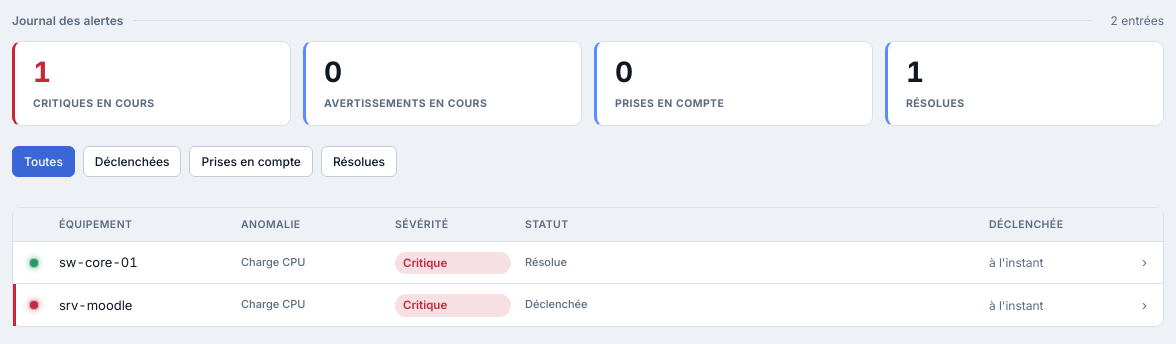
Test: AlertesPage › filtre par statut
Click the button "Résolues" at (359, 162), box [321,146,397,177]
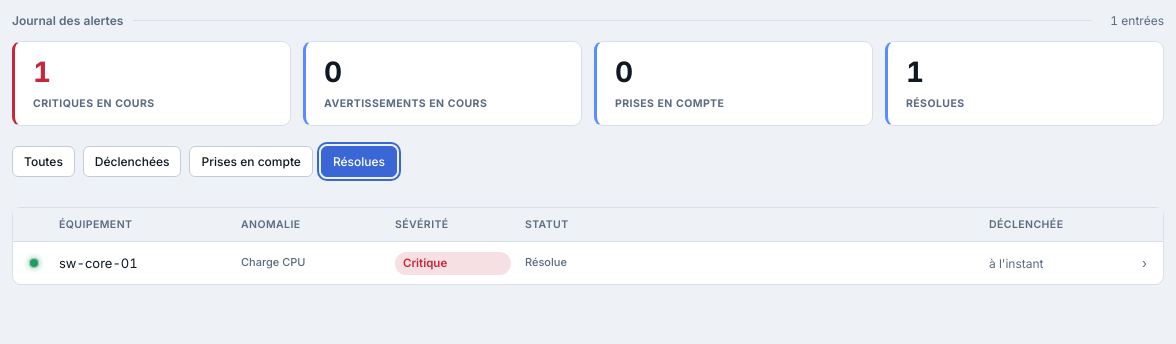
Check: the text "sw-core-01" is shown, box [59,255,138,271]
Check: the button "srv-moodle" is gone
Check: the text "1 entrées" is shown, box [1110,12,1164,29]
